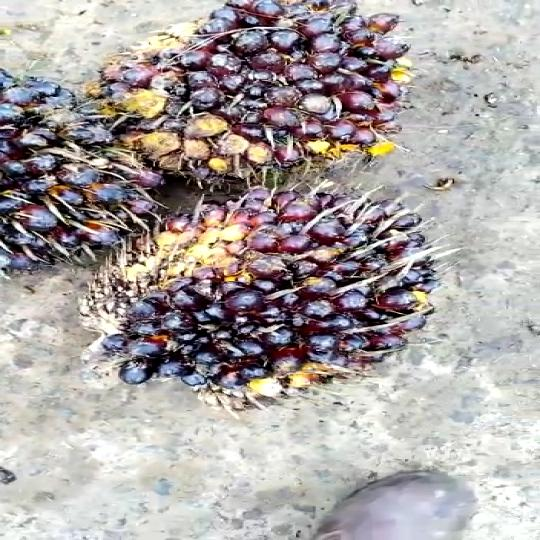mentah: (103, 184, 446, 421), (81, 0, 448, 188)
